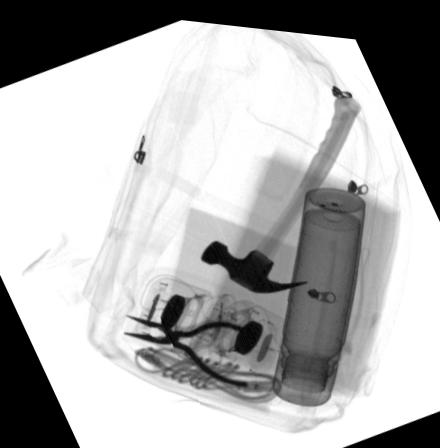Hammer: (200, 86, 362, 286)
Pliers: (123, 312, 249, 380)
